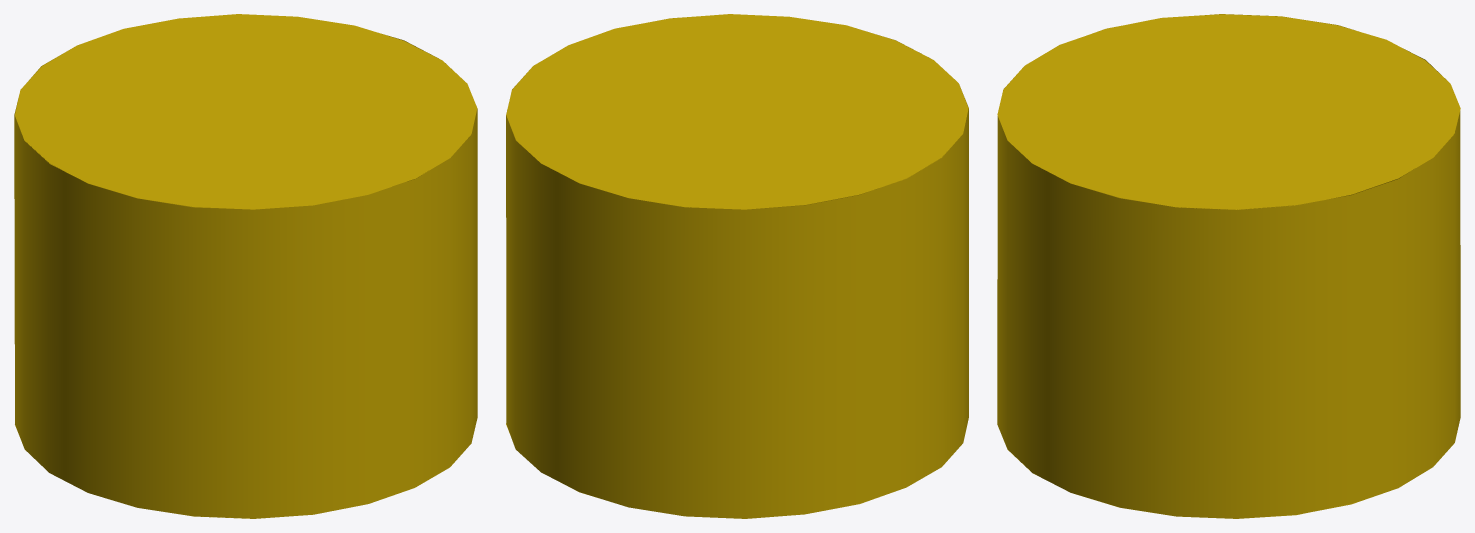
Rendered from original-14.obj.
The picture shows the model from 3 angles, left to right: view 1: azimuth 30°, elevation 25°; view 2: azimuth 150°, elevation 25°; view 3: azimuth 270°, elevation 25°; orthographic projection.
Visible parts, largest first — view 1: group_13/ID97#ID97; view 2: group_13/ID97#ID97; view 3: group_13/ID97#ID97.
Boxes of the visible parts, bbox=[...] form: group_13/ID97#ID97: bbox=[14, 14, 477, 518]; group_13/ID97#ID97: bbox=[506, 14, 968, 518]; group_13/ID97#ID97: bbox=[997, 14, 1460, 518].
Bounding box in the file's own units: 0.1341 × 0.099 × 0.1341.
